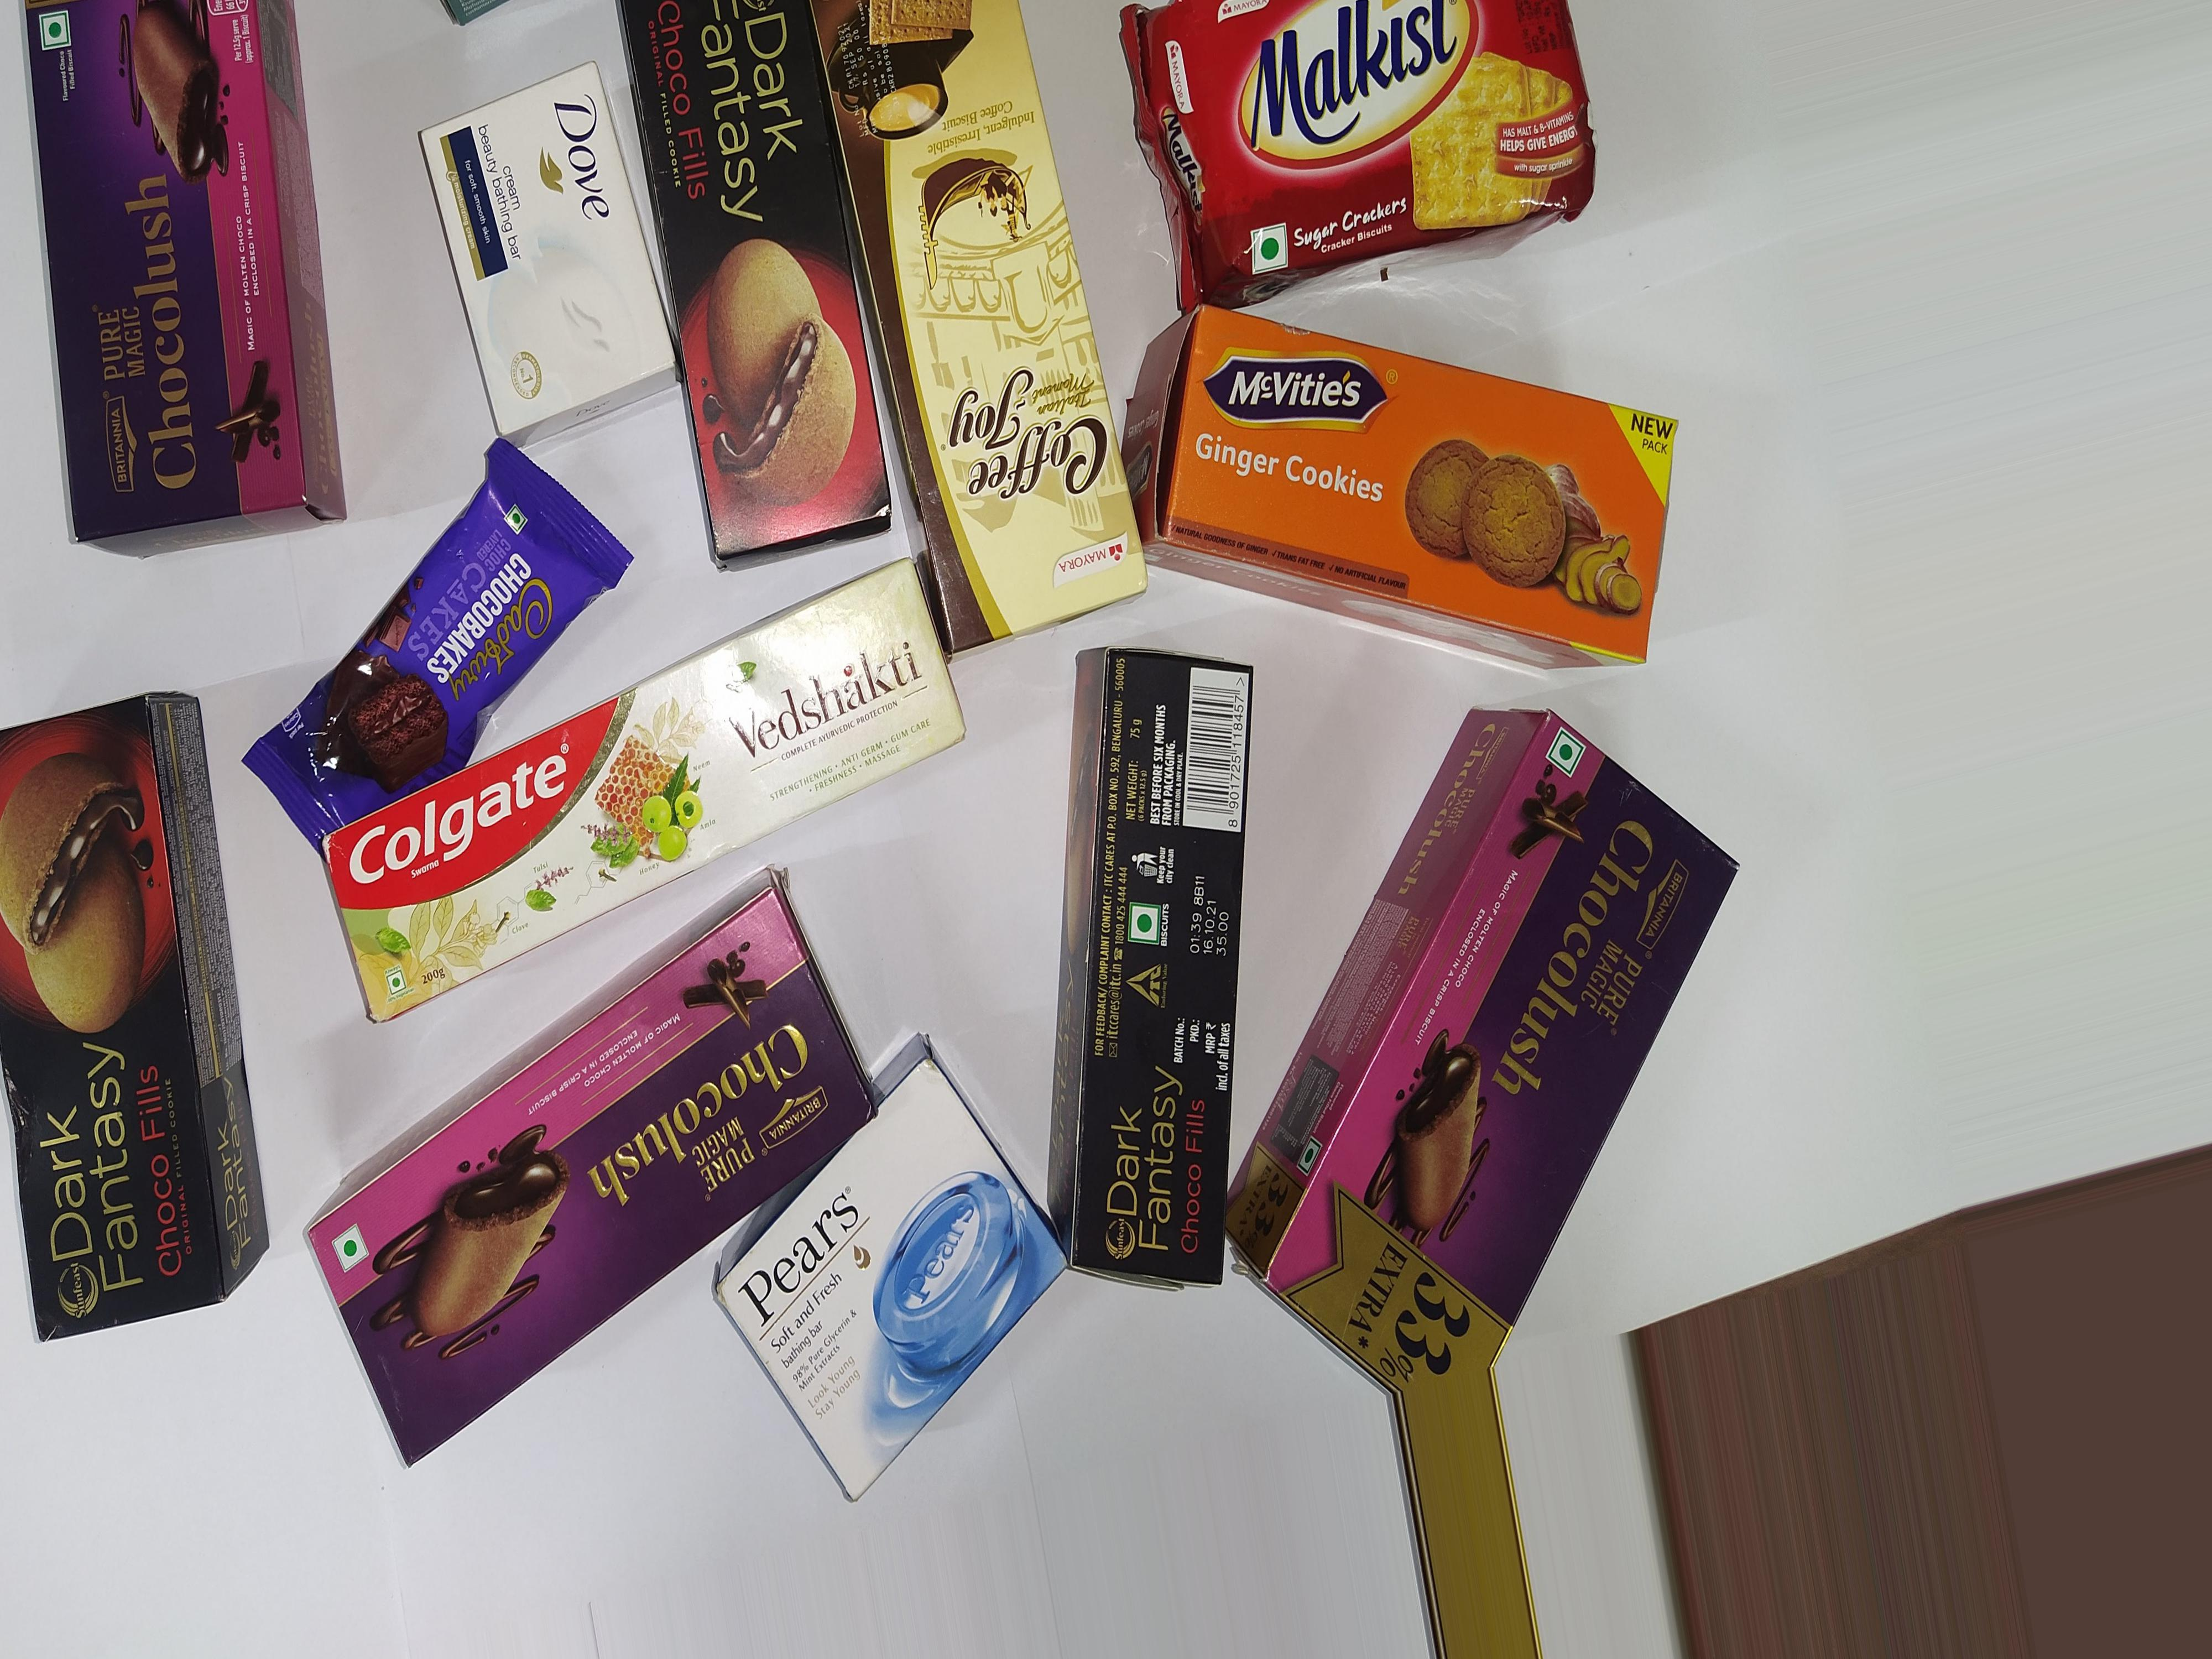Bar_code: (1169, 647, 1263, 861)
Item: (1261, 706, 1693, 1429), (782, 0, 1165, 640), (1125, 289, 1719, 695), (5, 0, 366, 563), (0, 664, 287, 1344), (1029, 622, 1278, 1323), (1076, 0, 1632, 288), (721, 1089, 1075, 1518), (423, 59, 702, 457), (340, 451, 589, 772)
